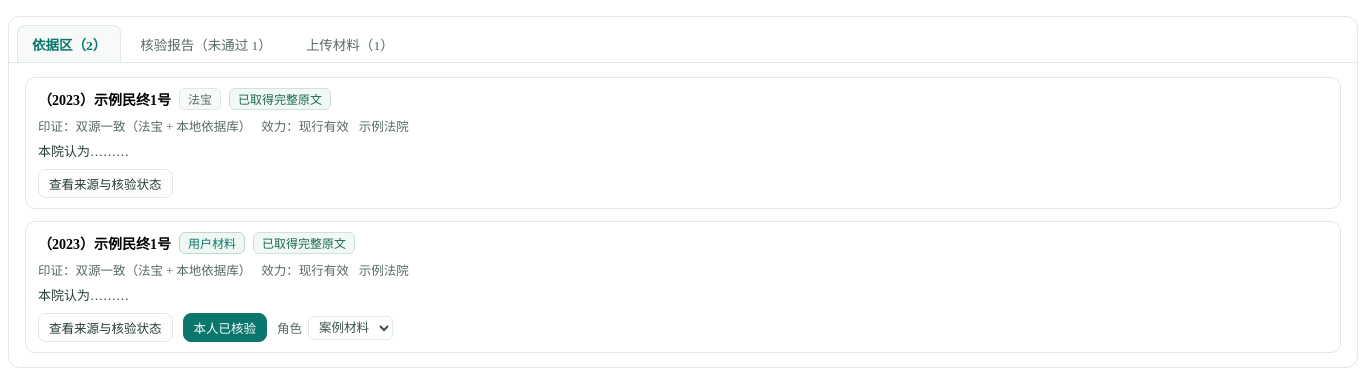
Test: 依据区 / 核验报告 / 上传材料 › 门禁页签展示被拦下的规则与依据缺口（含被降级结论）
Click the tab "核验报告（未通过 1）": click(206, 44) [125,25,287,62]
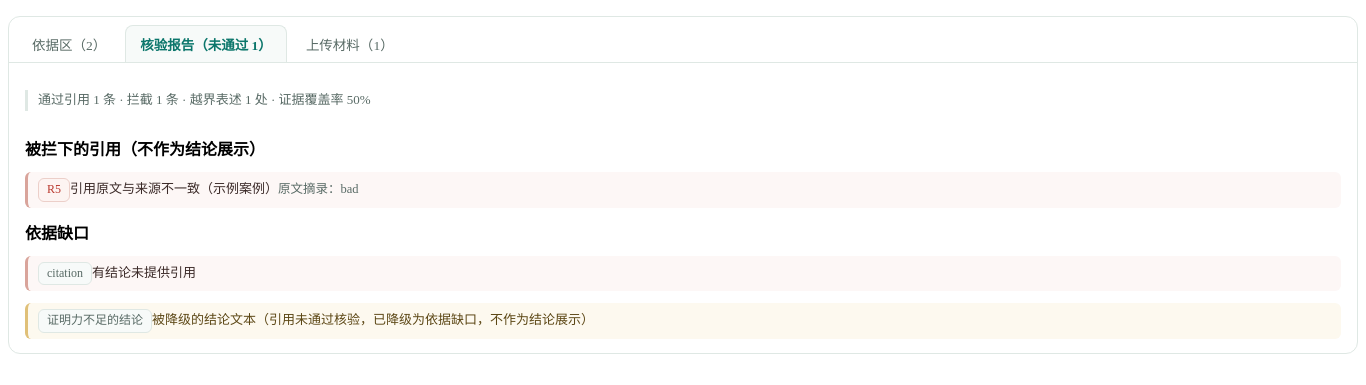
Now the text "R5" is shown, box [38,178,70,202]
Now the text "R5 引用原文与来源不一致（示例案例）原文摘录：bad" is shown, box [25,172,1341,208]
Now the text "被拦下的引用（不作为结论展示）" is shown, box [25,141,265,158]
